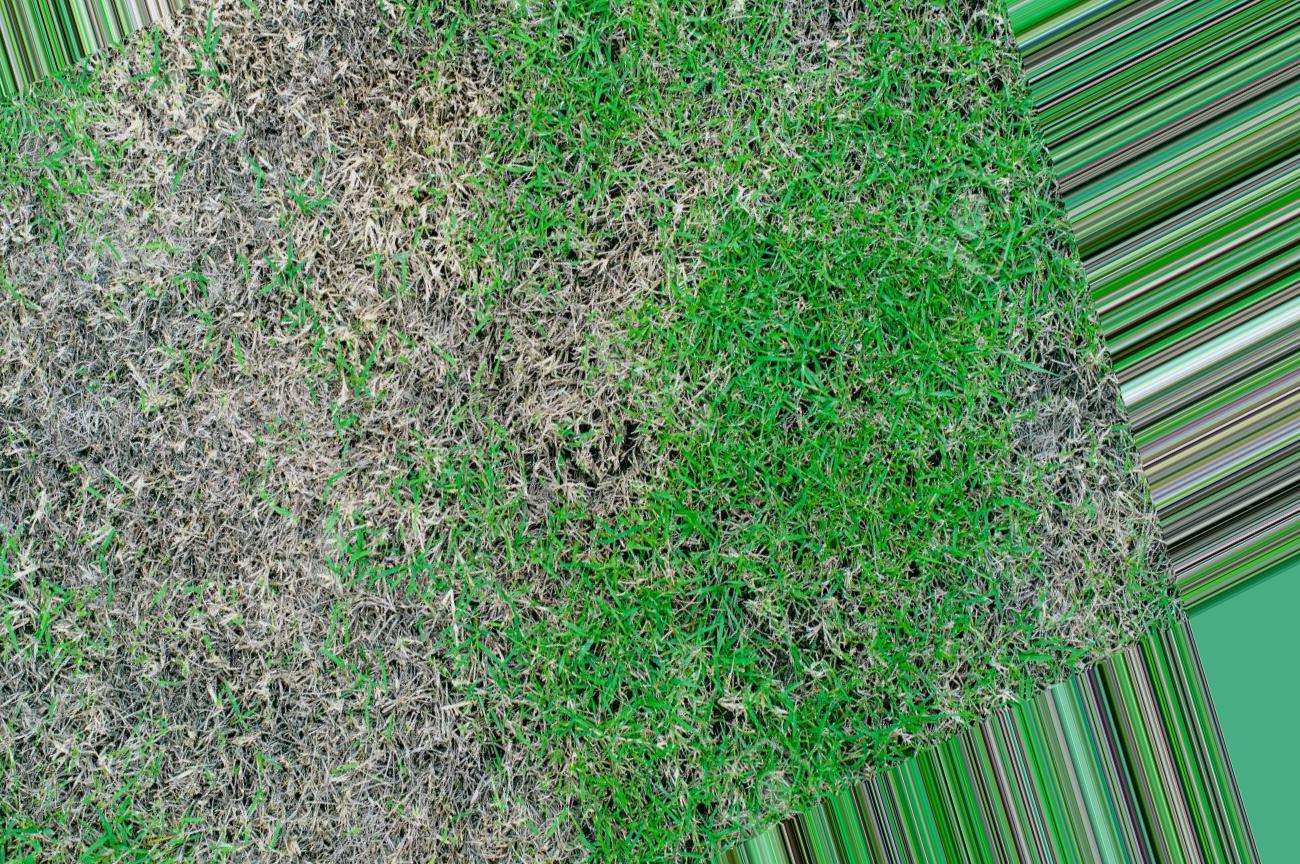patch: (39, 328, 323, 594), (190, 625, 506, 864), (116, 127, 270, 340), (291, 66, 462, 251)
